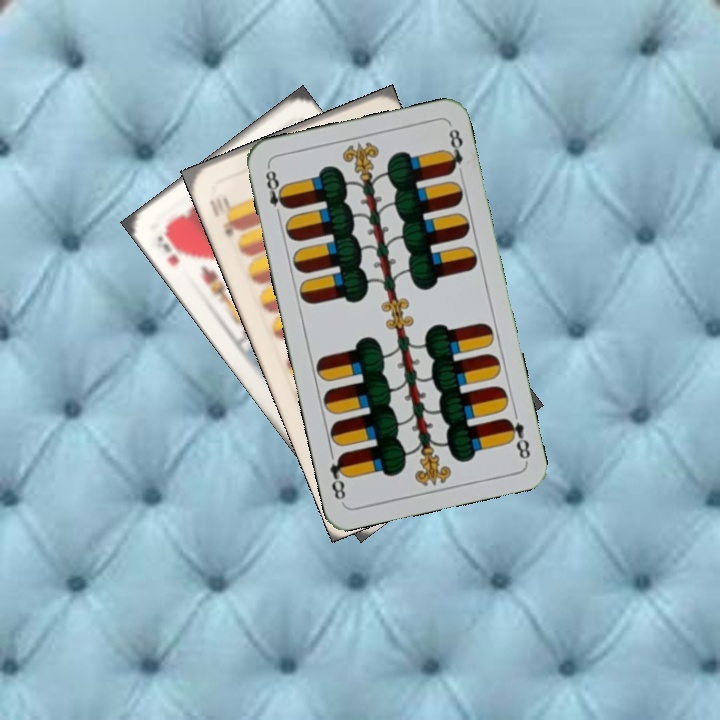E10: (205, 193, 242, 240)
E8: (261, 163, 291, 222), (501, 414, 533, 464)
HK: (153, 226, 190, 269)
